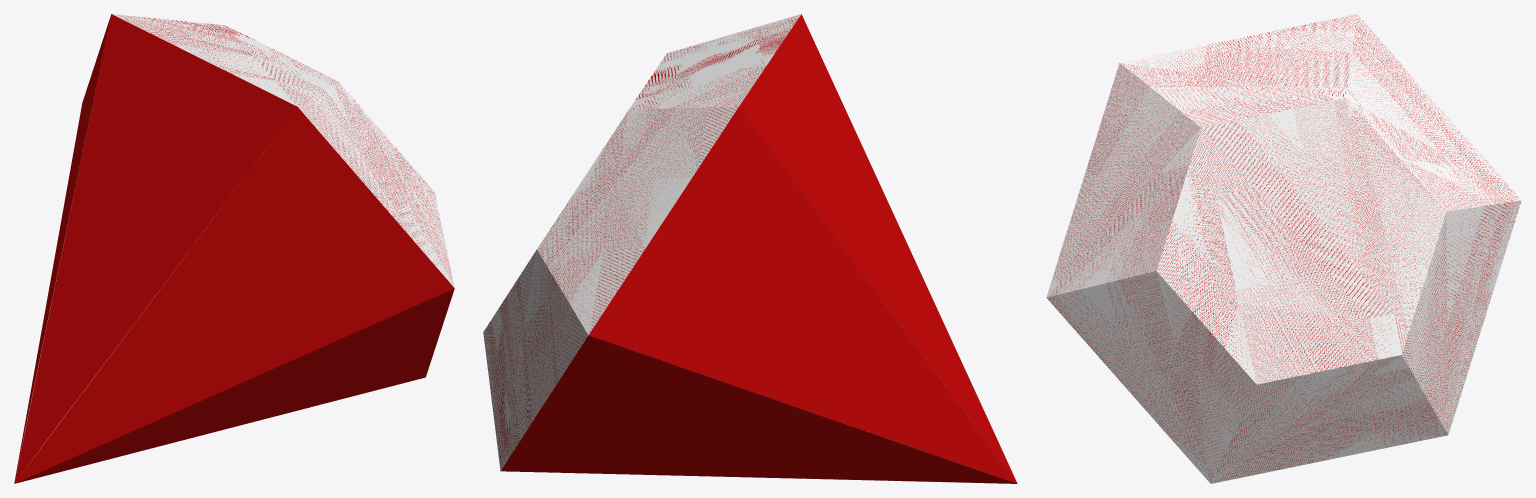
The model's file is Gem 3 (painting partition).dae.
3 renders of one model, left to right at view 1: azimuth 30°, elevation 25°; view 2: azimuth 150°, elevation 25°; view 3: azimuth 270°, elevation 25°, orthographic. The views are drawn at different scales.
Visible parts, largest first — view 1: Component_1; view 2: Component_1; view 3: Component_1.
Part boxes in pixels (<box>): Component_1: <box>14,14,454,483</box>; Component_1: <box>483,14,1017,483</box>; Component_1: <box>1046,14,1521,483</box>.
Bounding box in the file's own units: 261 × 256 × 212.
